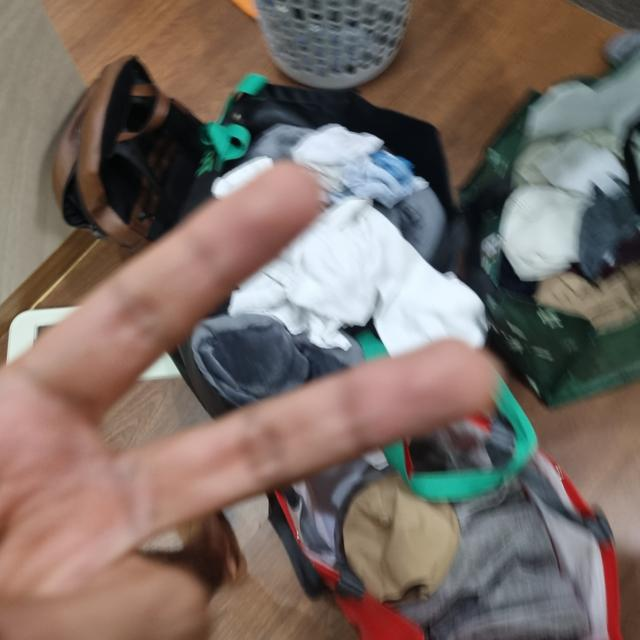Scissors: (0, 0, 621, 639)
